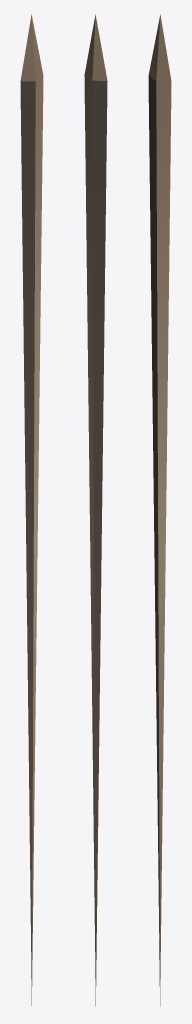
The model's file is Speer_LOD0.dae.
3 views of the same model, side by side, from view 1: azimuth 30°, elevation 25°; view 2: azimuth 150°, elevation 25°; view 3: azimuth 330°, elevation 25° (orthographic).
Visible parts, largest first — view 1: Speer_LOD0; view 2: Speer_LOD0; view 3: Speer_LOD0.
Boxes of the visible parts, <box> form: Speer_LOD0: <box>20,14,43,1005</box>; Speer_LOD0: <box>84,14,107,1006</box>; Speer_LOD0: <box>148,14,171,1006</box>.
Size of the model in its own units: 0.0532 by 0.0296 by 2.2.
1 material, 1 textured.
